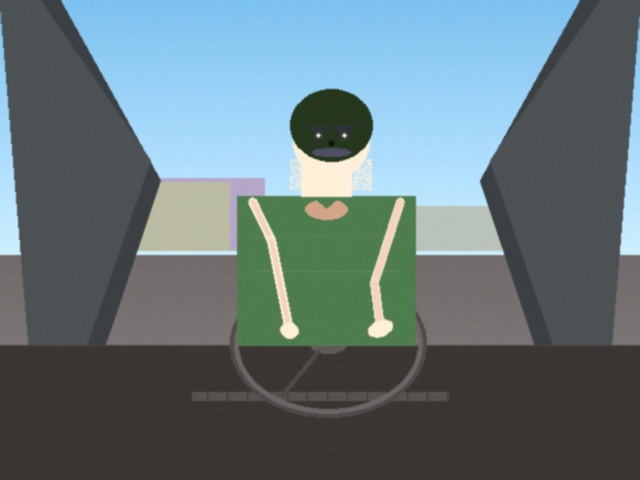normal_driving: (100, 176, 328, 344)
